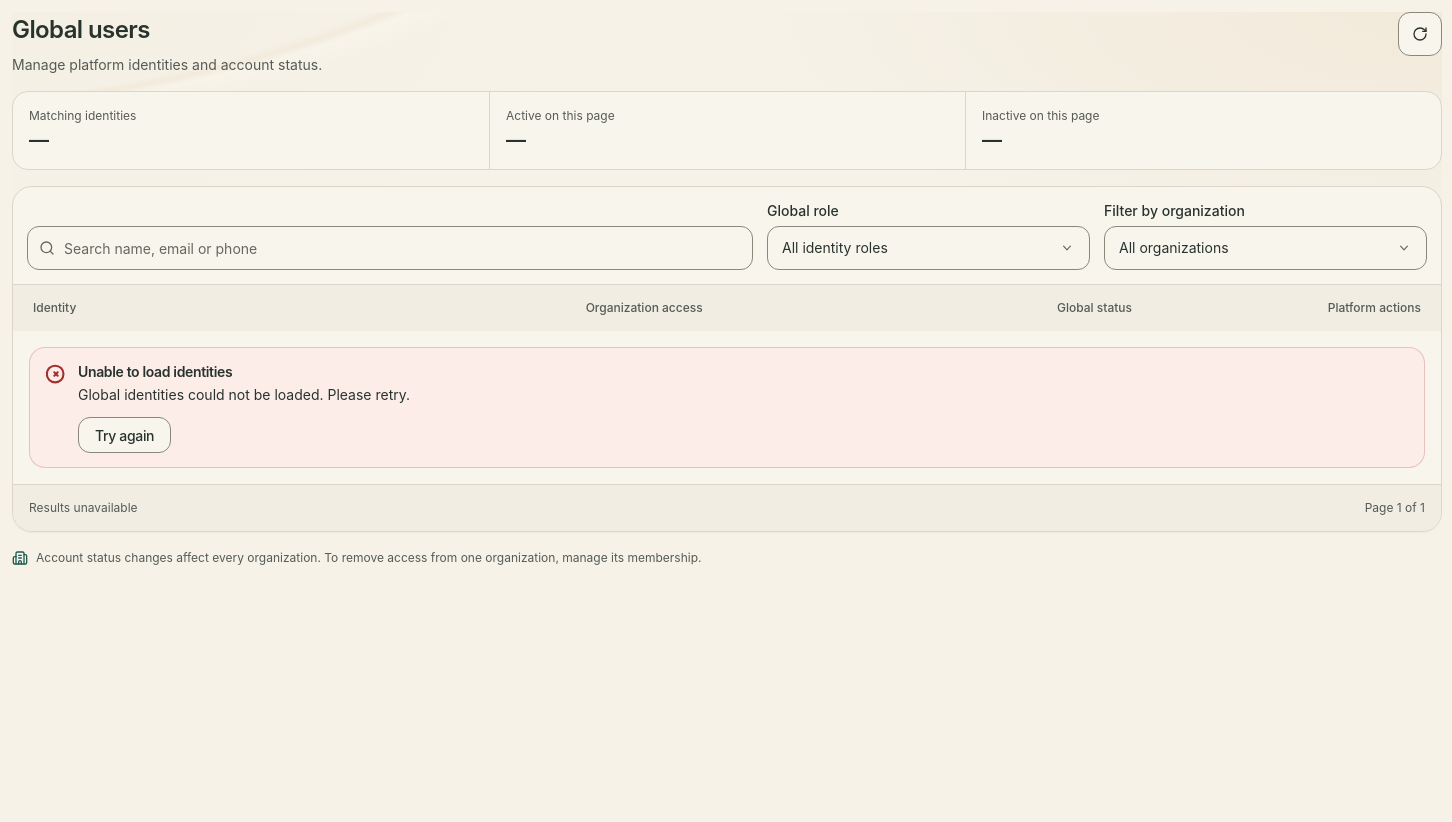
Test: Root organization and identity scope › shows a failed identity read as unavailable and retries without displaying an empty result
Expected: the text "Unable to load identities" is shown, [78, 363, 232, 380]
Expected: the number of elements named "Unavailable" is 3, [29, 128, 49, 152]; [506, 128, 526, 152]; [982, 128, 1002, 152]
Click the button "Try again".
click(125, 435)  # box [78, 417, 171, 453]
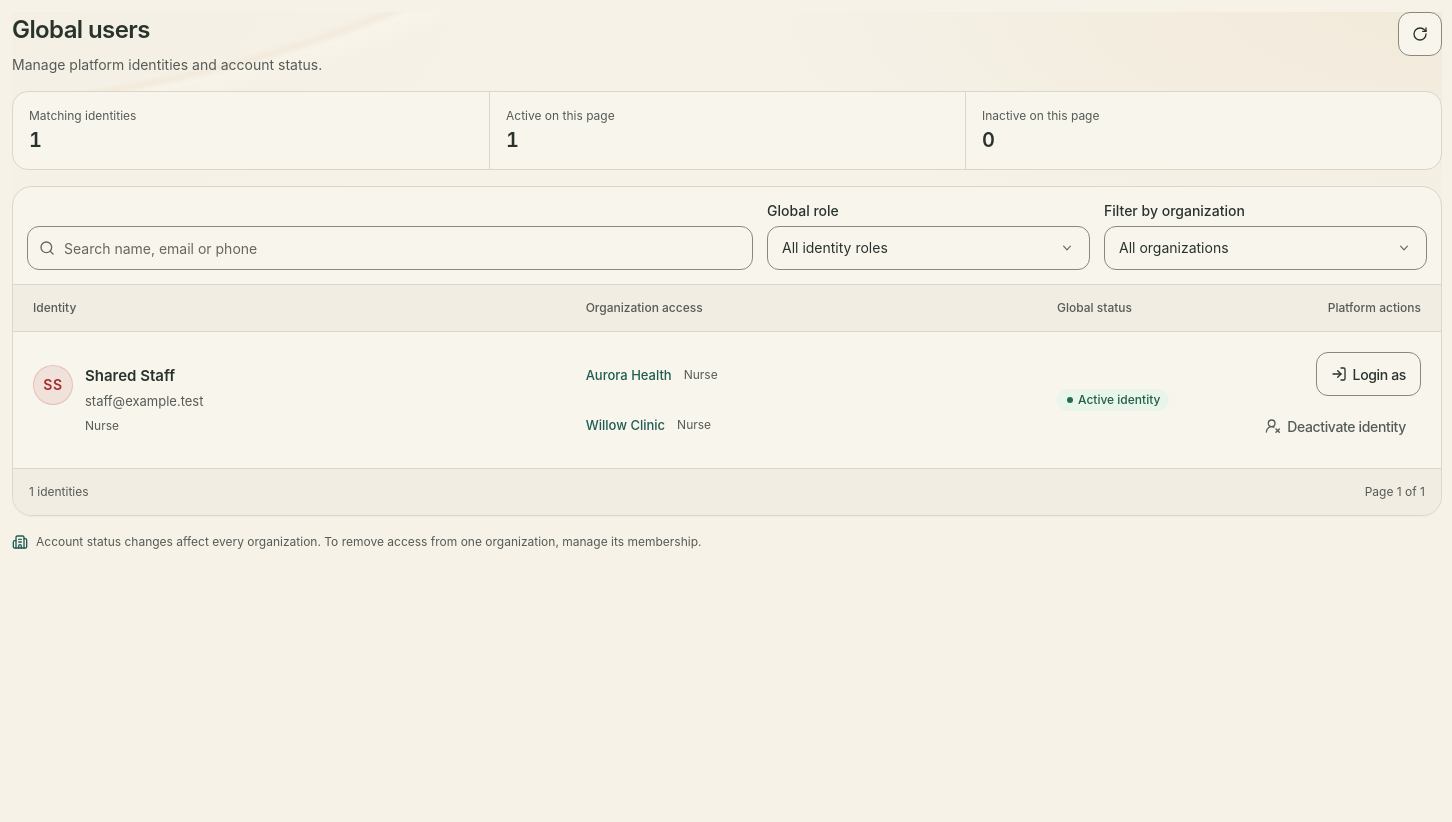
Result: the list named "Global identities" shows "Shared Staff" at [85, 366, 175, 385]
